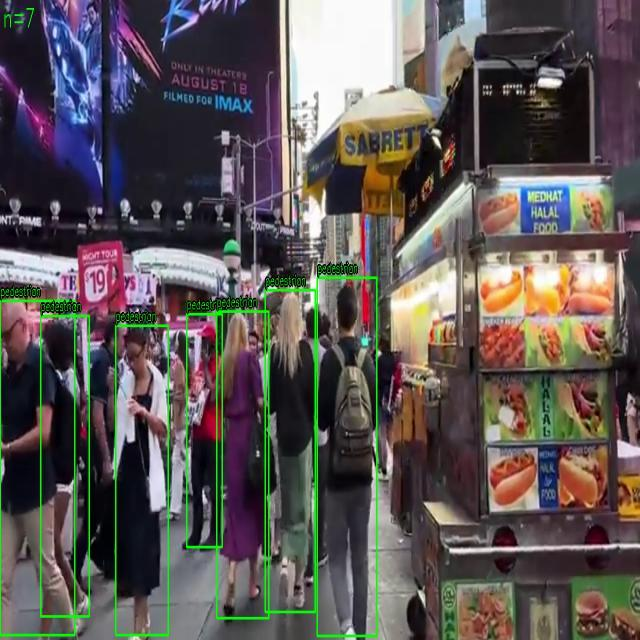with scooter: (0, 300, 75, 636), (317, 278, 377, 636), (264, 290, 316, 612), (115, 326, 168, 636), (217, 311, 270, 619), (40, 315, 90, 617), (186, 314, 222, 548)
